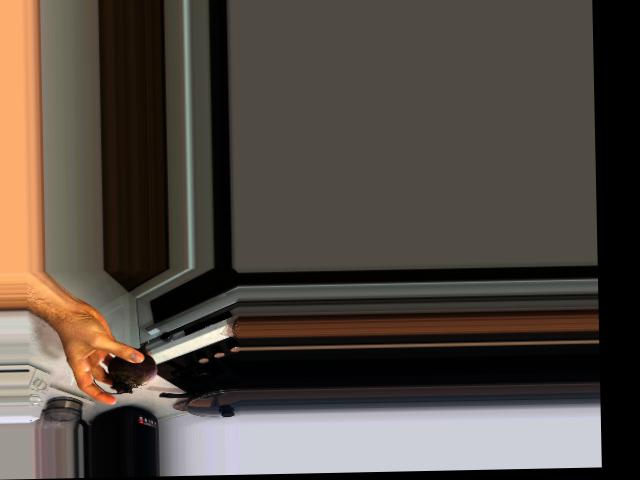beet: (93, 339, 157, 394)
